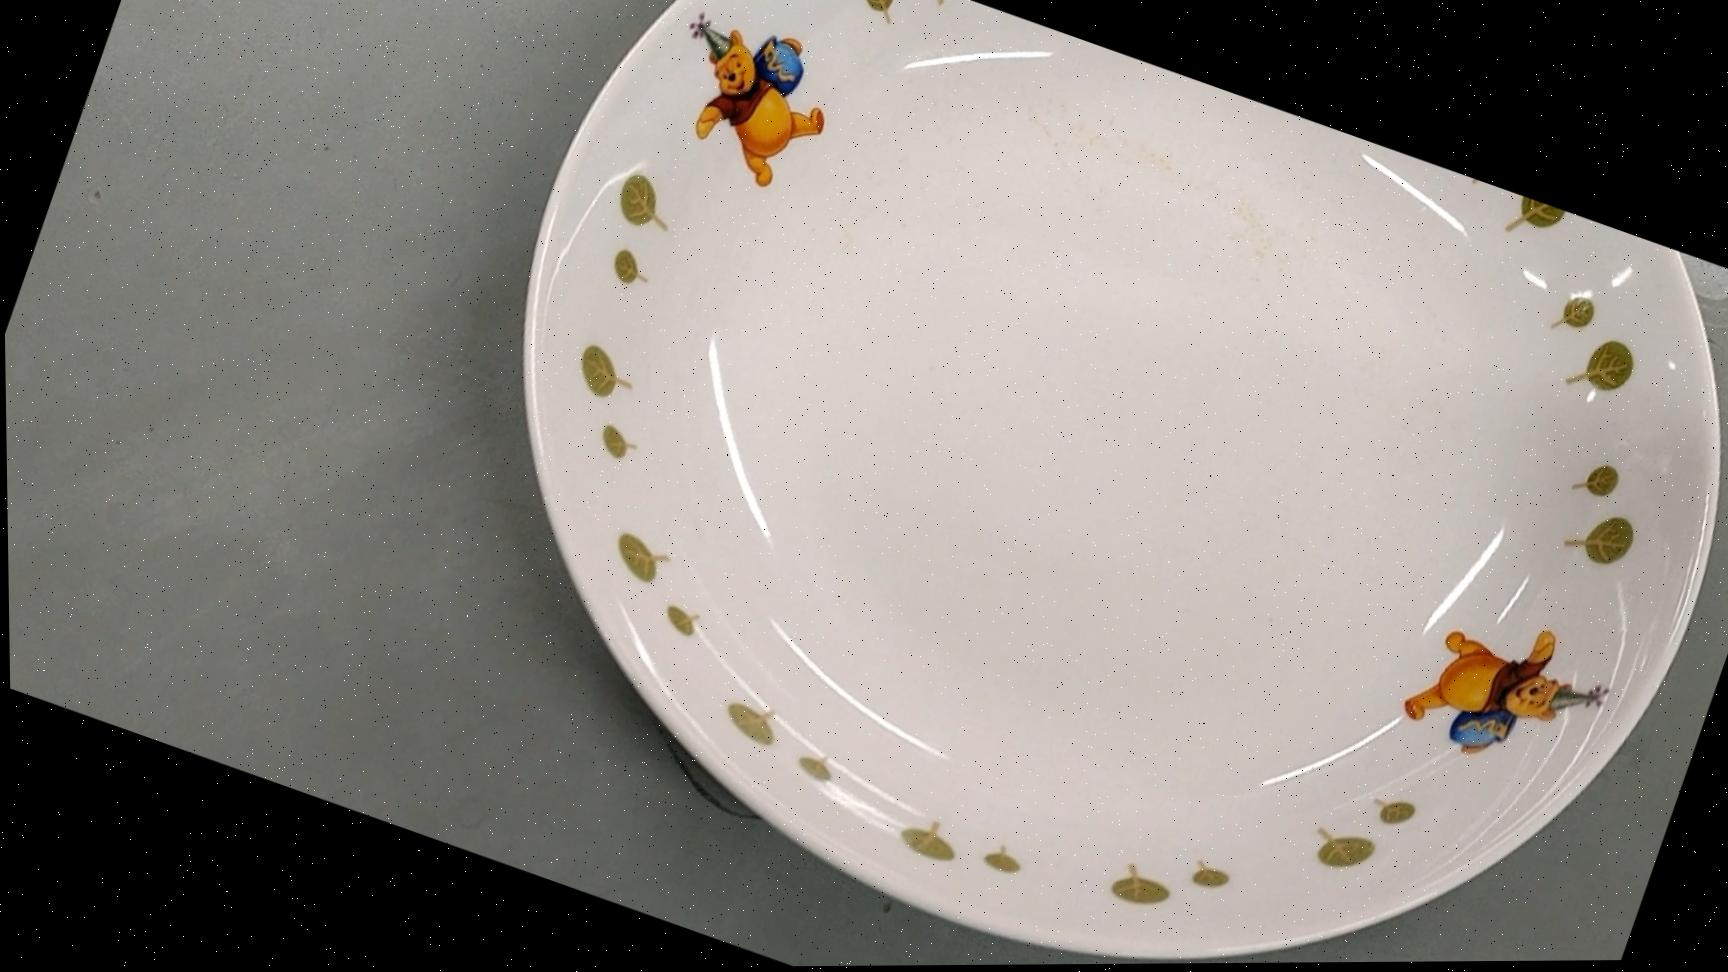plate: (355, 0, 1728, 970)
